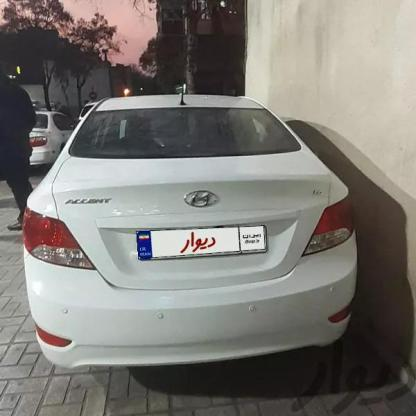Car: (14, 76, 385, 372), (0, 97, 89, 163)
